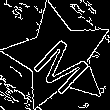M_NE: (24, 23, 93, 92)
